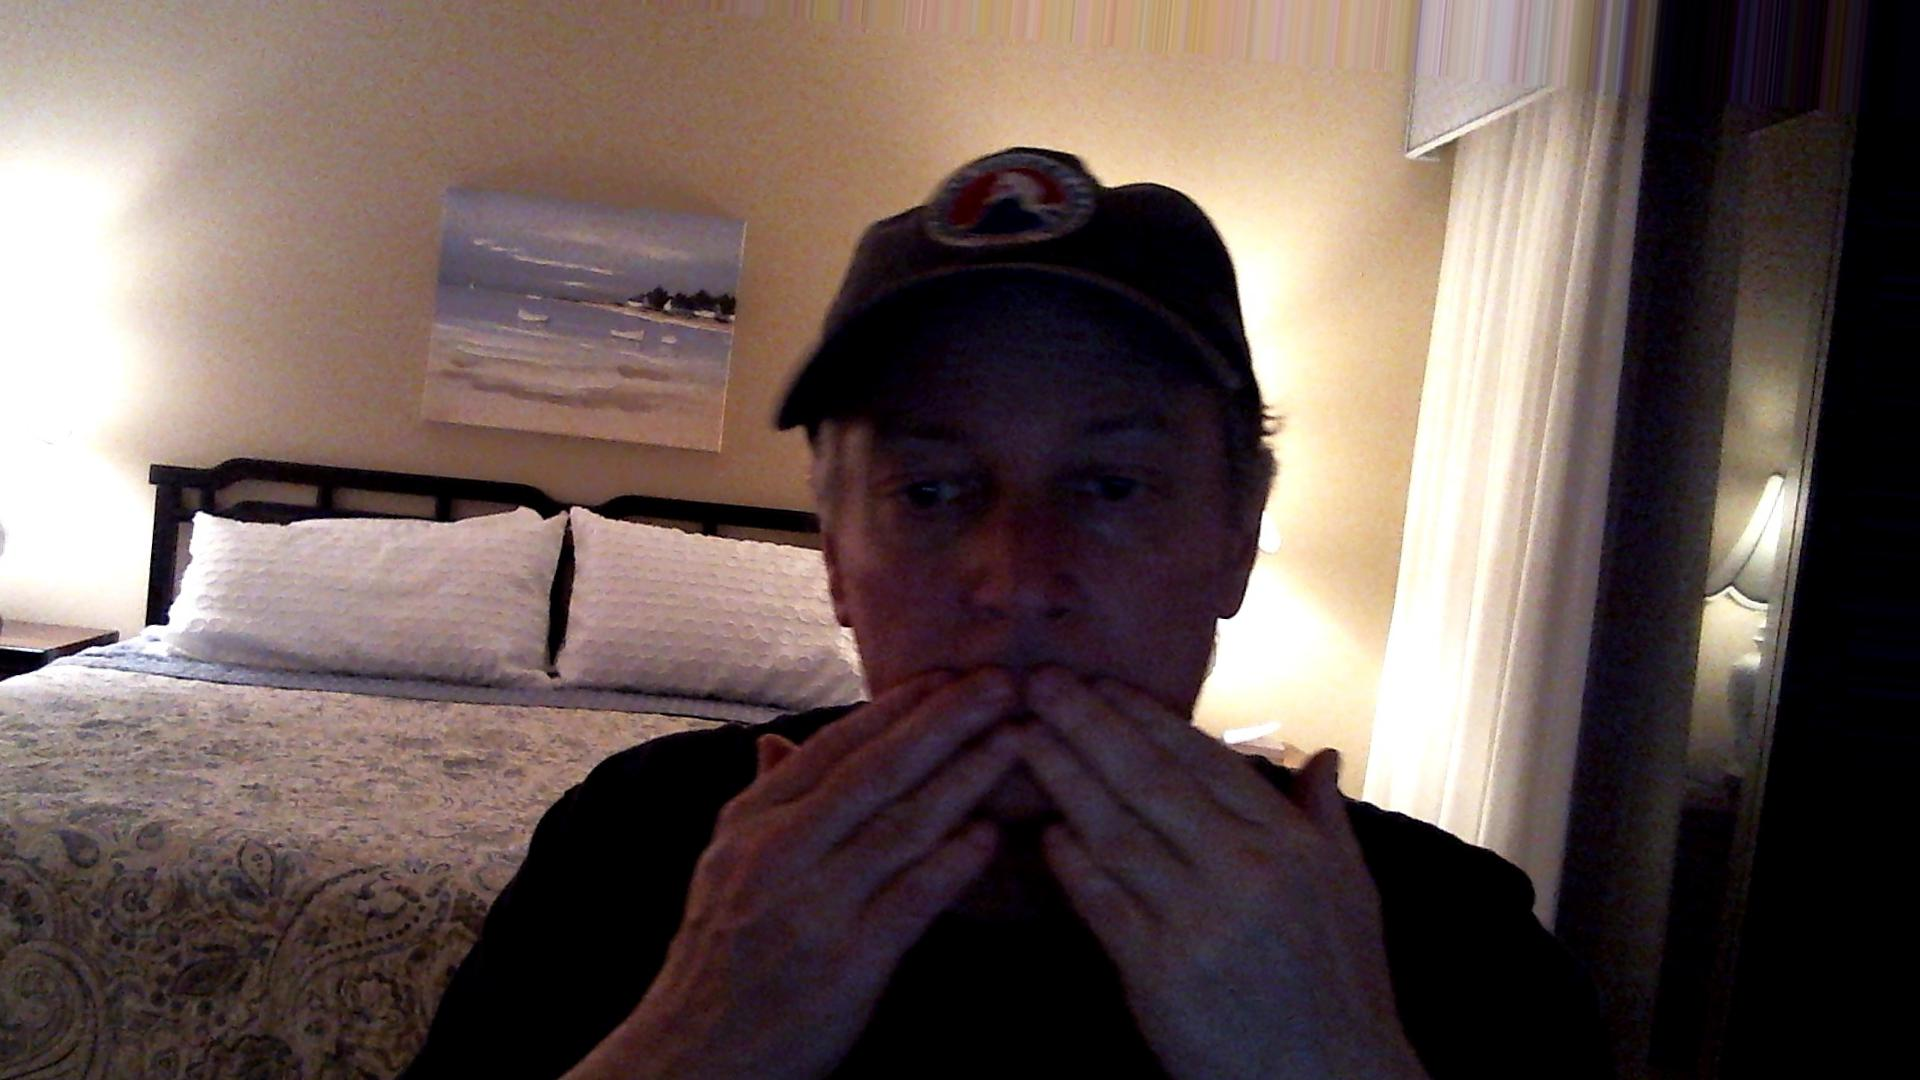Thank You: (670, 642, 1393, 1062)
